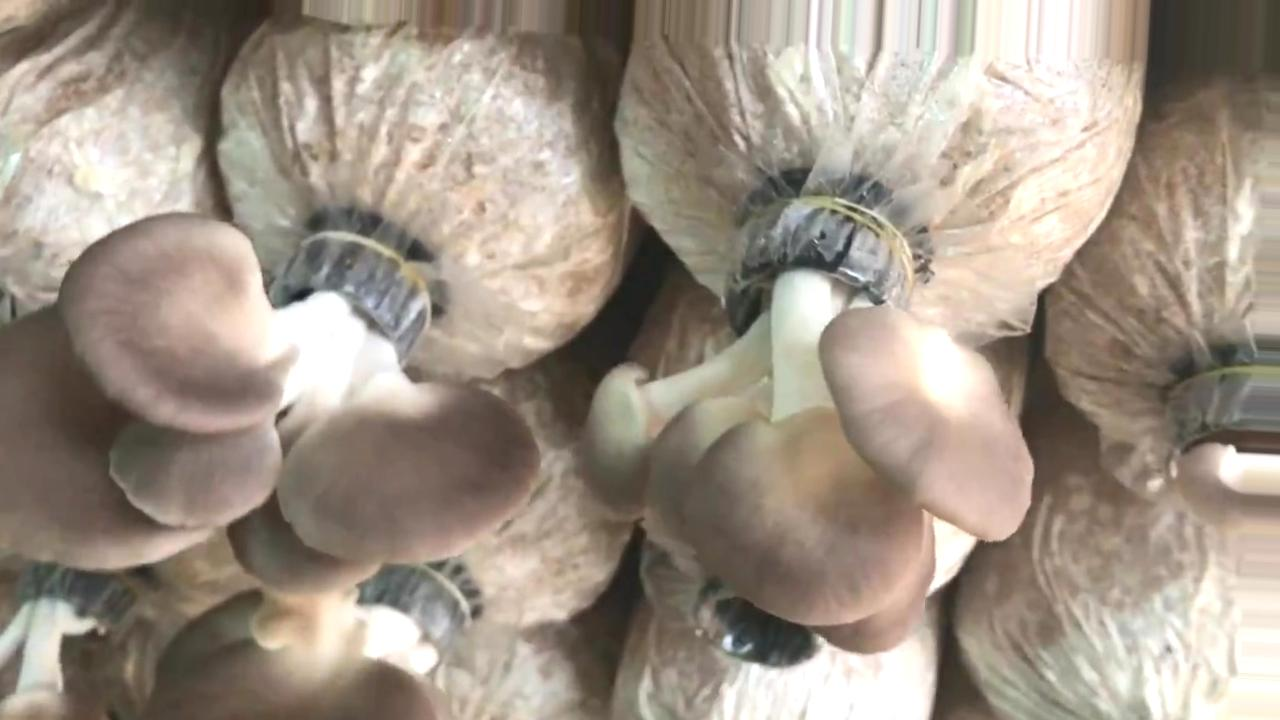nam: (588, 206, 1034, 653), (1, 213, 531, 589), (152, 566, 468, 720), (1, 573, 125, 720), (1178, 351, 1279, 530)
